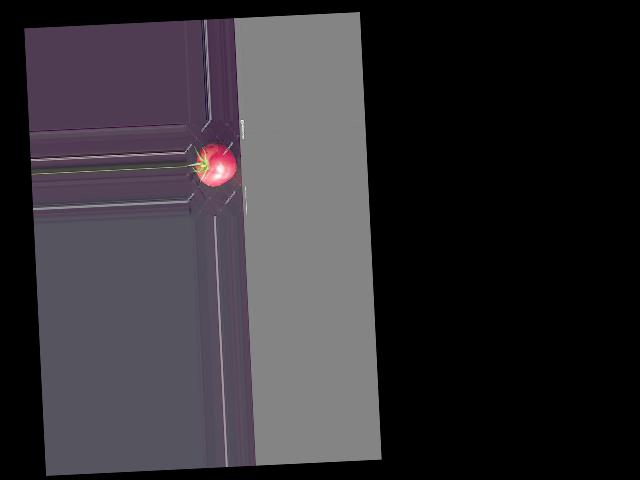tomato: (195, 143, 237, 187)
